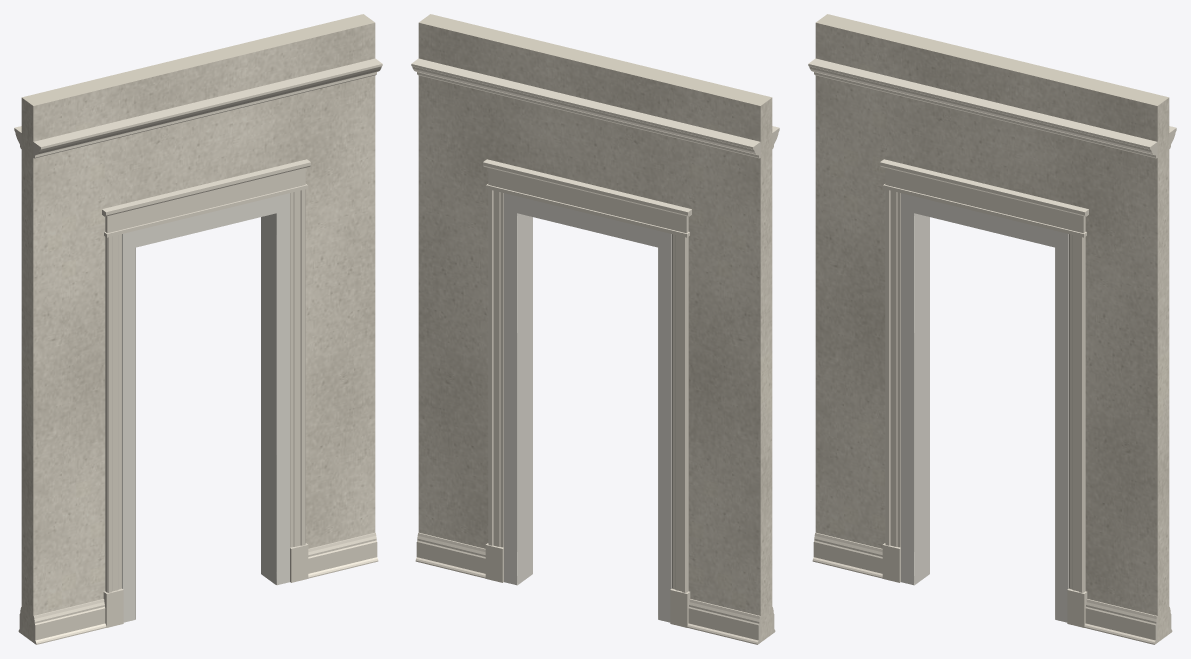
File: interior_wall_doorway_ground.glb
3 views of the same model, side by side, from view 1: azimuth 30°, elevation 25°; view 2: azimuth 150°, elevation 25°; view 3: azimuth 330°, elevation 25° (orthographic).
Visible parts, largest first — view 1: interior_wall_doorway_ground_plaster, molduras, interior_wall_doorway_ground_frame; view 2: interior_wall_doorway_ground_plaster, molduras, interior_wall_doorway_ground_frame; view 3: interior_wall_doorway_ground_plaster, molduras, interior_wall_doorway_ground_frame.
Part boxes in pixels (left/top/right/bottom): interior_wall_doorway_ground_plaster: left=21, top=14, right=375, bottom=642; molduras: left=14, top=58, right=382, bottom=644; interior_wall_doorway_ground_frame: left=122, top=193, right=289, bottom=622; interior_wall_doorway_ground_plaster: left=418, top=14, right=772, bottom=642; molduras: left=411, top=58, right=779, bottom=644; interior_wall_doorway_ground_frame: left=504, top=193, right=671, bottom=622; interior_wall_doorway_ground_plaster: left=815, top=14, right=1169, bottom=642; molduras: left=808, top=58, right=1176, bottom=644; interior_wall_doorway_ground_frame: left=901, top=193, right=1068, bottom=622.
Size of the model in its own units: 2 by 3 by 0.27.
3 materials, 1 textured.
